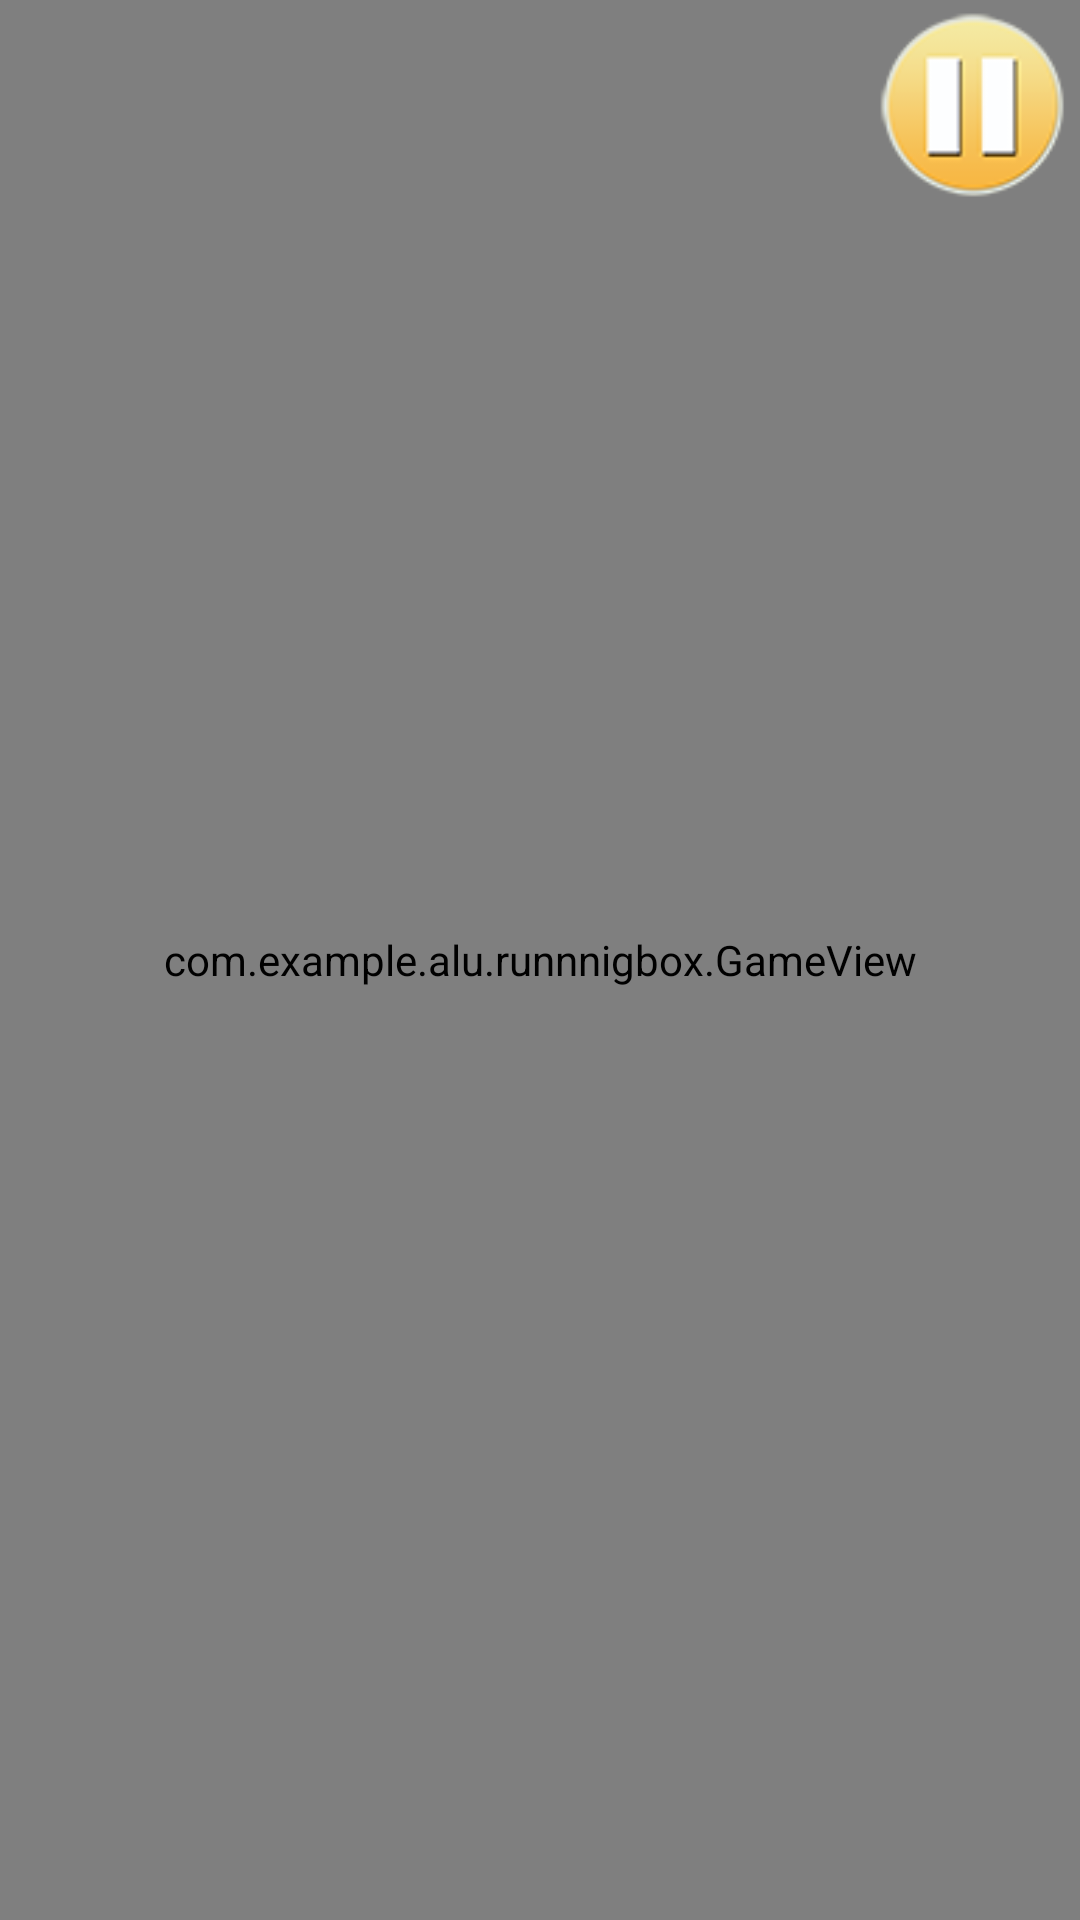

Icon click points for this 1080px×1920px phone screenshot, format [x,y]:
pause: [972,105]
